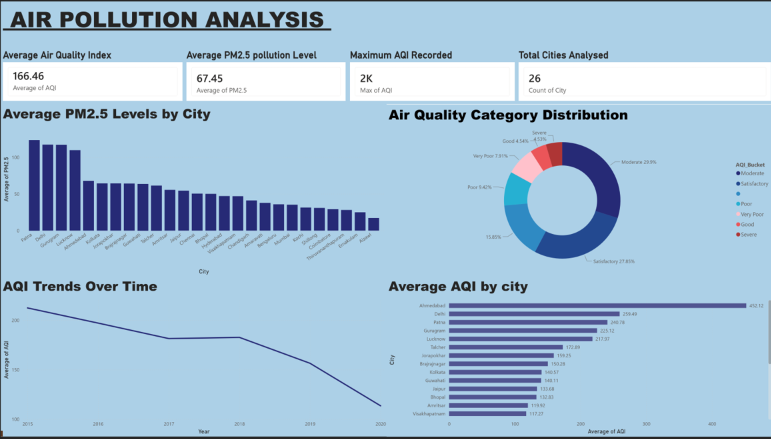

What the dashboard file says about the page in this screenshot:
{"tool":"powerbi","page":{"name":"Page 1","canvas":[1920,1080],"ordinal":0},"visuals":[{"type":"clusteredBarChart","title":"Average AQI by city","fields":{"Category":["city_day.City"],"Y":["Avg(city_day.AQI)"]},"box":[958.1,683.2,961,396.9],"z":0},{"type":"cardVisual","title":"Average Air Quality Index","fields":{"Data":["Avg(city_day.AQI)"]},"box":[0,119.1,456.4,136.1],"z":1000},{"type":"lineChart","title":"AQI Trends Over Time","fields":{"Category":["city_day.Date.Variation.Date Hierarchy.Year","city_day.Date.Variation.Date Hierarchy.Quarter","city_day.Date.Variation.Date Hierarchy.Month","city_day.Date.Variation.Date Hierarchy.Day"],"Y":["Avg(city_day.AQI)"]},"box":[0,683.2,961,396.9],"z":2000},{"type":"cardVisual","title":"Average PM2.5 pollution Level","fields":{"Data":["Avg(city_day.PM2.5)"]},"box":[456.4,119.1,405.4,136.1],"z":3000},{"type":"cardVisual","title":"Maximum AQI Recorded","fields":{"Data":["Max(city_day.AQI)"]},"box":[861.7,119.1,419.5,136.1],"z":4000},{"type":"cardVisual","title":"Total Cities Analysed","fields":{"Data":["Count(city_day.City)"]},"box":[1281.3,119.1,637.8,136.1],"z":5000},{"type":"donutChart","title":"Air Quality Category Distribution","fields":{"Category":["city_day.AQI_Bucket"],"Y":["CountNonNull(city_day.AQI_Bucket)"]},"box":[957.5,256,962.5,428.3],"z":6000},{"type":"clusteredColumnChart","title":"Average PM2.5 Levels by City","fields":{"Category":["city_day.City"],"Y":["Avg(city_day.PM2.5)"]},"box":[0,255.1,958.1,428],"z":7000},{"type":"textbox","box":[0,0,1919.1,119.1],"z":8000}]}

Visuals, with their boxes in screenshot pixels (x1, y1, x2, y2), scaled from the page's 1920x1080 canvas onto the 771x439 screenshot:
"Average AQI by city" clusteredBarChart: x1=385 y1=278 x2=770 y2=438
"Average Air Quality Index" cardVisual: x1=0 y1=48 x2=183 y2=104
"AQI Trends Over Time" lineChart: x1=0 y1=278 x2=386 y2=438
"Average PM2.5 pollution Level" cardVisual: x1=183 y1=48 x2=346 y2=104
"Maximum AQI Recorded" cardVisual: x1=346 y1=48 x2=514 y2=104
"Total Cities Analysed" cardVisual: x1=515 y1=48 x2=770 y2=104
"Air Quality Category Distribution" donutChart: x1=384 y1=104 x2=770 y2=278
"Average PM2.5 Levels by City" clusteredColumnChart: x1=0 y1=104 x2=385 y2=278
textbox: x1=0 y1=0 x2=770 y2=48
